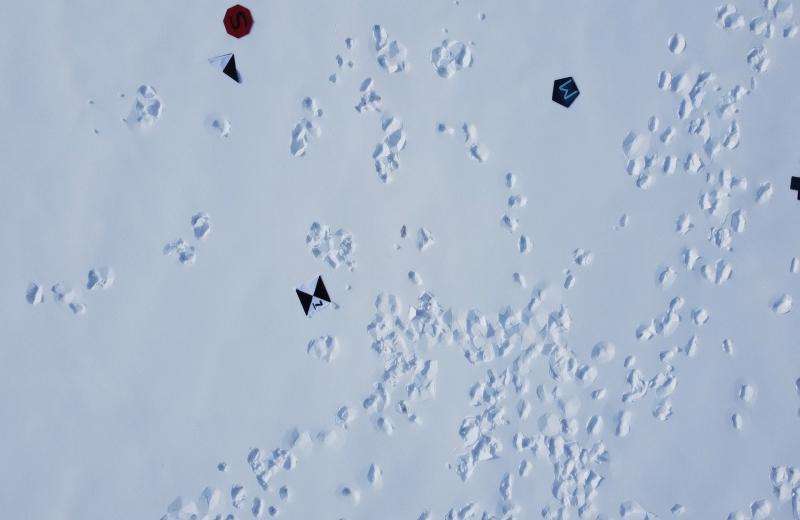Cross: (788, 167, 800, 200)
Octagon: (223, 3, 254, 39)
Pentagon: (552, 74, 582, 108)
